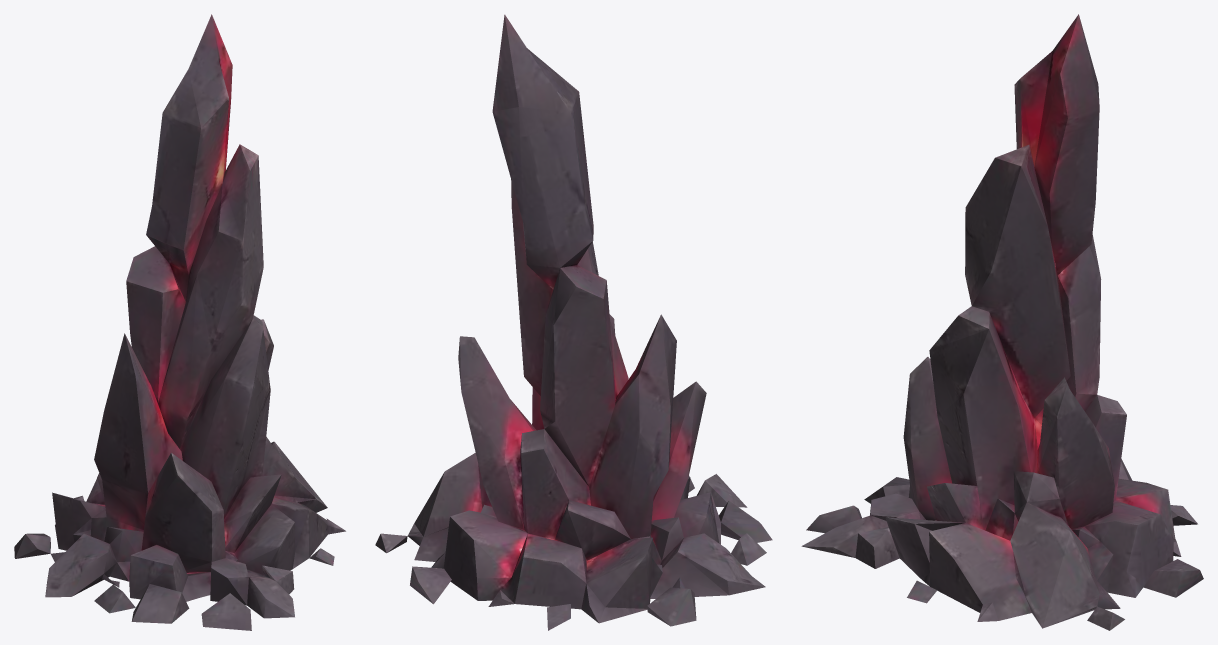
File: stone_spike.glb
3 renders of one model, left to right at view 1: azimuth 30°, elevation 25°; view 2: azimuth 150°, elevation 25°; view 3: azimuth 270°, elevation 25°, orthographic. The views are drawn at different scales.
Parts seen in each view (by area): view 1: body; view 2: body; view 3: body.
Boxes of the visible parts, x1,y1,x2,y2 form: body: (14, 14, 345, 630); body: (375, 14, 772, 630); body: (801, 14, 1203, 630).
Bounding box in the file's own units: 0.6381 × 0.9992 × 0.6497.
1 material, 1 textured.
